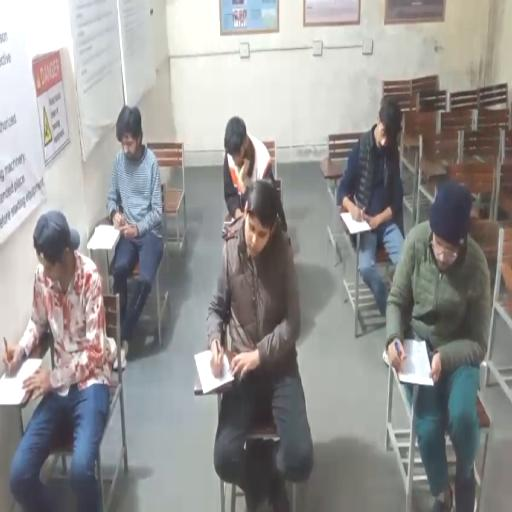paper: (340, 211, 373, 235)
